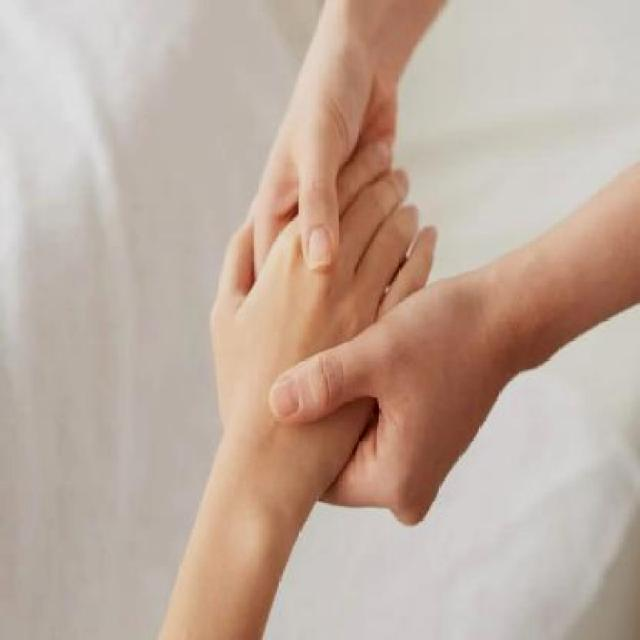hand_noglove: (204, 142, 442, 495), (267, 276, 490, 529)
